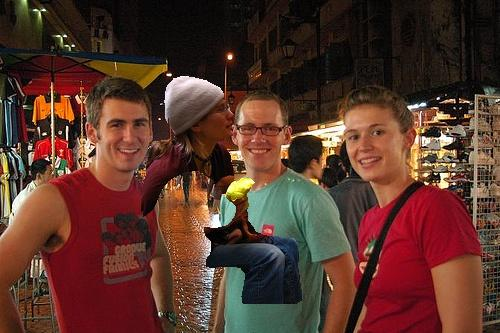tampered: (142, 77, 302, 304)
